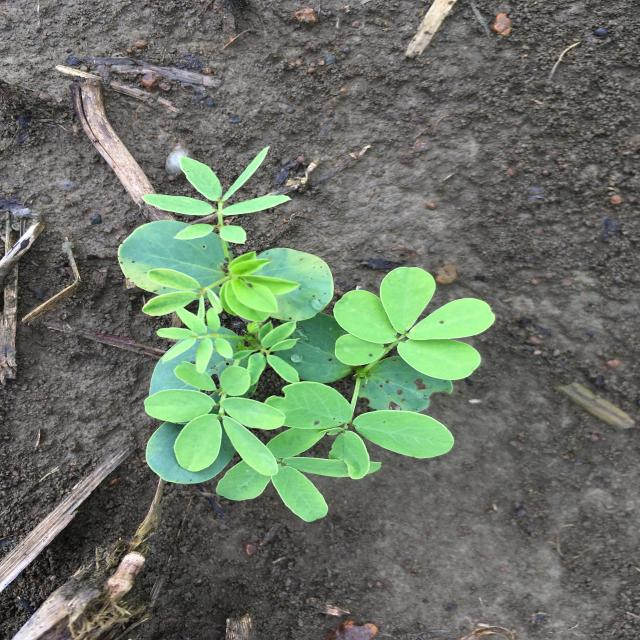Sicklepod: (117, 146, 497, 522)
